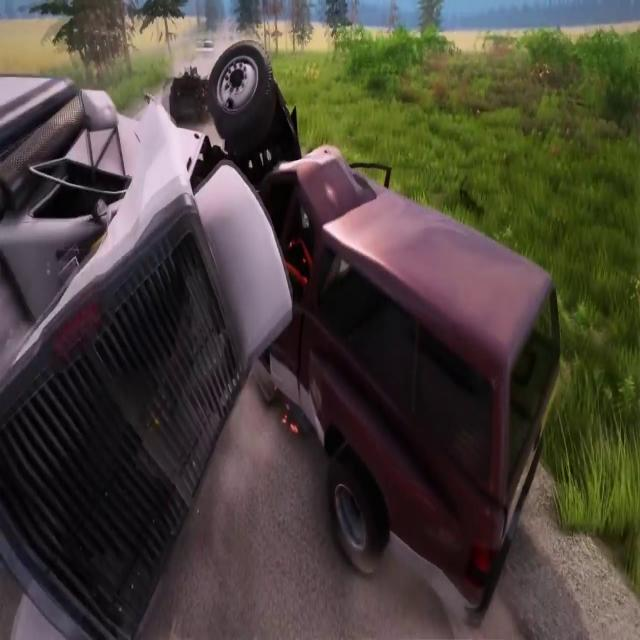accident: (0, 34, 567, 640)
